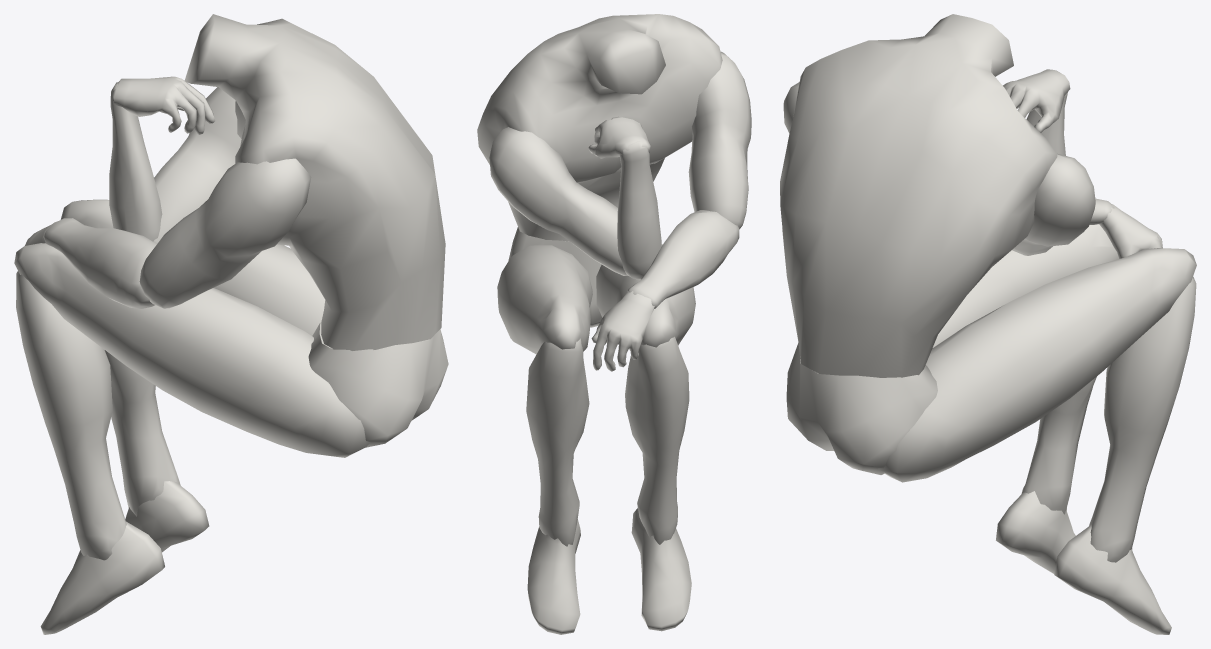
File: Male Thinking.glb
3 views of the same model, side by side, from view 1: azimuth 30°, elevation 25°; view 2: azimuth 150°, elevation 25°; view 3: azimuth 270°, elevation 25° (orthographic). The views are drawn at different scales.
Visible parts, largest first — view 1: Standard.24, Standard.17, Standard.18, Standard.20, Standard.23, Standard.15, Standard.14, Standard.12, Standard.19, Standard.21, Standard.16, Standard.22 (+1 smaller); view 2: Standard.24, Standard.12, Standard.18, Standard.14, Standard.15, Standard.20, Standard.21, Standard.16, Standard.19, Standard.13, Standard.17, Standard.25 (+2 smaller); view 3: Standard.24, Standard.15, Standard.14, Standard.23, Standard.17, Standard.13, Standard.12, Standard.18, Standard.19, Standard.22, Standard.25, Standard.16.
Boxes of the visible parts, bbox=[...] form: Standard.24: bbox=[184, 14, 445, 350]; Standard.17: bbox=[14, 243, 370, 457]; Standard.18: bbox=[16, 271, 126, 560]; Standard.20: bbox=[139, 158, 311, 308]; Standard.23: bbox=[308, 322, 448, 447]; Standard.15: bbox=[60, 199, 325, 335]; Standard.14: bbox=[104, 350, 180, 516]; Standard.12: bbox=[153, 87, 241, 243]; Standard.19: bbox=[40, 521, 164, 634]; Standard.21: bbox=[43, 218, 156, 308]; Standard.16: bbox=[109, 82, 162, 241]; Standard.22: bbox=[112, 76, 215, 134]; Standard.24: bbox=[477, 14, 722, 241]; Standard.12: bbox=[489, 127, 628, 275]; Standard.18: bbox=[625, 336, 689, 544]; Standard.14: bbox=[526, 338, 589, 546]; Standard.15: bbox=[497, 245, 592, 354]; Standard.20: bbox=[688, 51, 751, 229]; Standard.21: bbox=[627, 210, 739, 308]; Standard.16: bbox=[617, 141, 661, 279]; Standard.19: bbox=[631, 508, 691, 631]; Standard.13: bbox=[527, 519, 580, 634]; Standard.17: bbox=[596, 244, 695, 350]; Standard.25: bbox=[591, 291, 654, 371]; Standard.24: bbox=[780, 14, 1057, 377]; Standard.15: bbox=[878, 248, 1196, 482]; Standard.14: bbox=[1089, 277, 1196, 562]; Standard.23: bbox=[786, 343, 937, 474]; Standard.17: bbox=[932, 224, 1119, 347]; Standard.13: bbox=[1054, 524, 1171, 634]; Standard.12: bbox=[1012, 153, 1095, 255]; Standard.18: bbox=[1021, 376, 1096, 514]; Standard.19: bbox=[996, 491, 1075, 573]; Standard.22: bbox=[1003, 69, 1070, 132]; Standard.25: bbox=[1099, 204, 1162, 258]; Standard.16: bbox=[1026, 70, 1067, 155].
Bounding box in the file's own units: 0.026 × 0.0509 × 0.0308.
14 materials, 14 textured.
